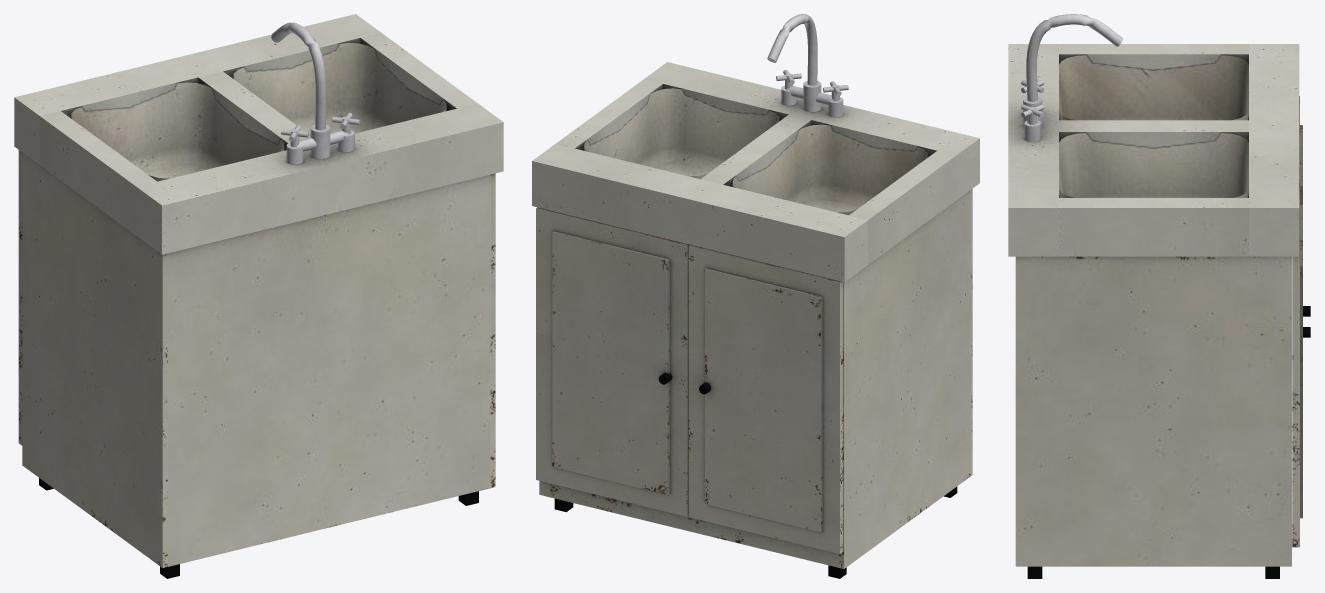
File: sink_cabinet_web.glb
3 renders of one model, left to right at view 1: azimuth 30°, elevation 25°; view 2: azimuth 150°, elevation 25°; view 3: azimuth 270°, elevation 25°, orthographic. The views are drawn at different scales.
Parts seen in each view (by area): view 1: SinkCabinet_Body, Chrome_FaucetBody, Chrome_Spout, Door_R_Mesh; view 2: SinkCabinet_Body, Door_R_Mesh, Door_L_Mesh, Chrome_FaucetBody, Chrome_Spout; view 3: SinkCabinet_Body, Door_L_Mesh, Chrome_Spout, Chrome_FaucetBody, Door_R_Mesh.
Part boxes in pixels (x1,y1,x2,y2): SinkCabinet_Body: [14, 14, 503, 578]; Chrome_FaucetBody: [281, 112, 360, 164]; Chrome_Spout: [271, 22, 326, 130]; Door_R_Mesh: [18, 150, 22, 445]; SinkCabinet_Body: [532, 62, 979, 578]; Door_R_Mesh: [688, 244, 843, 553]; Door_L_Mesh: [536, 207, 689, 516]; Chrome_FaucetBody: [776, 69, 848, 117]; Chrome_Spout: [767, 14, 817, 85]; SinkCabinet_Body: [1008, 44, 1299, 578]; Door_L_Mesh: [1292, 176, 1310, 547]; Chrome_Spout: [1026, 14, 1123, 101]; Chrome_FaucetBody: [1021, 80, 1044, 141]; Door_R_Mesh: [1299, 96, 1310, 316].
Bounding box in the file's own units: 0.8 × 1.11 × 0.623.
Materials: 2 (2 with a texture image).
